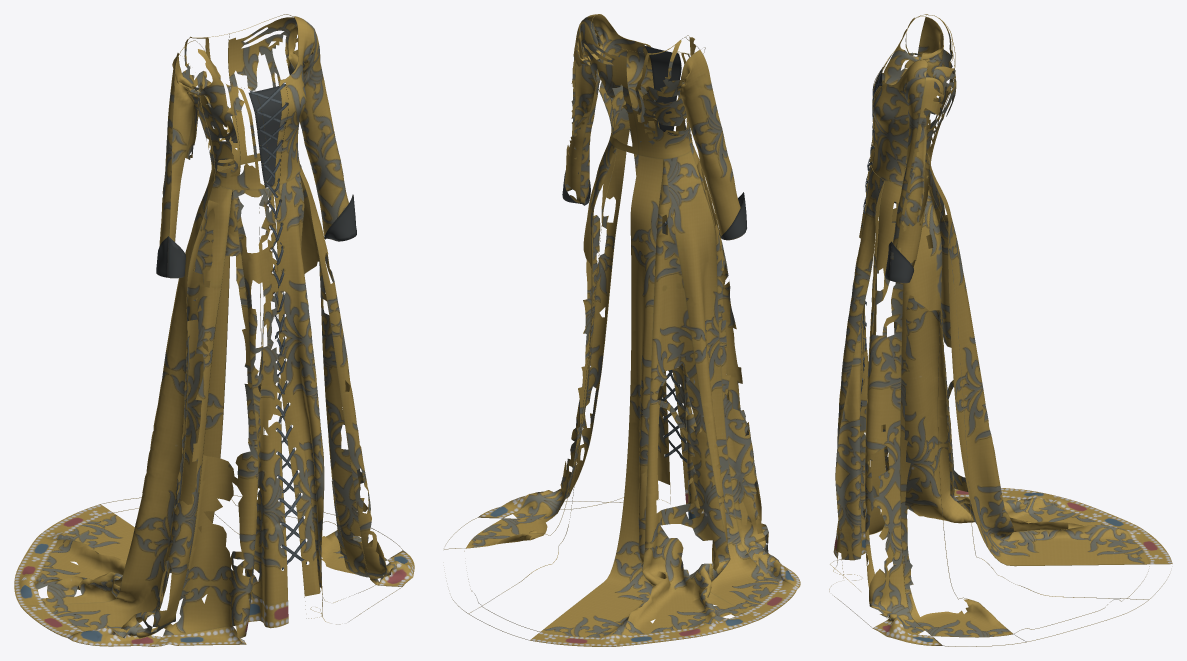
3 views of the same model, side by side, from view 1: azimuth 30°, elevation 25°; view 2: azimuth 150°, elevation 25°; view 3: azimuth 270°, elevation 25° (orthographic). The views are drawn at different scales.
Visible parts, largest first — view 1: defaultMaterial.001; view 2: defaultMaterial.001; view 3: defaultMaterial.001.
Part boxes in pixels (box(x1,y1,x2,y2)): defaultMaterial.001: box(14, 14, 414, 646); defaultMaterial.001: box(444, 14, 800, 646); defaultMaterial.001: box(829, 14, 1172, 646).
Bounding box in the file's own units: 1.93 × 3 × 1.75.
1 material, 1 textured.
